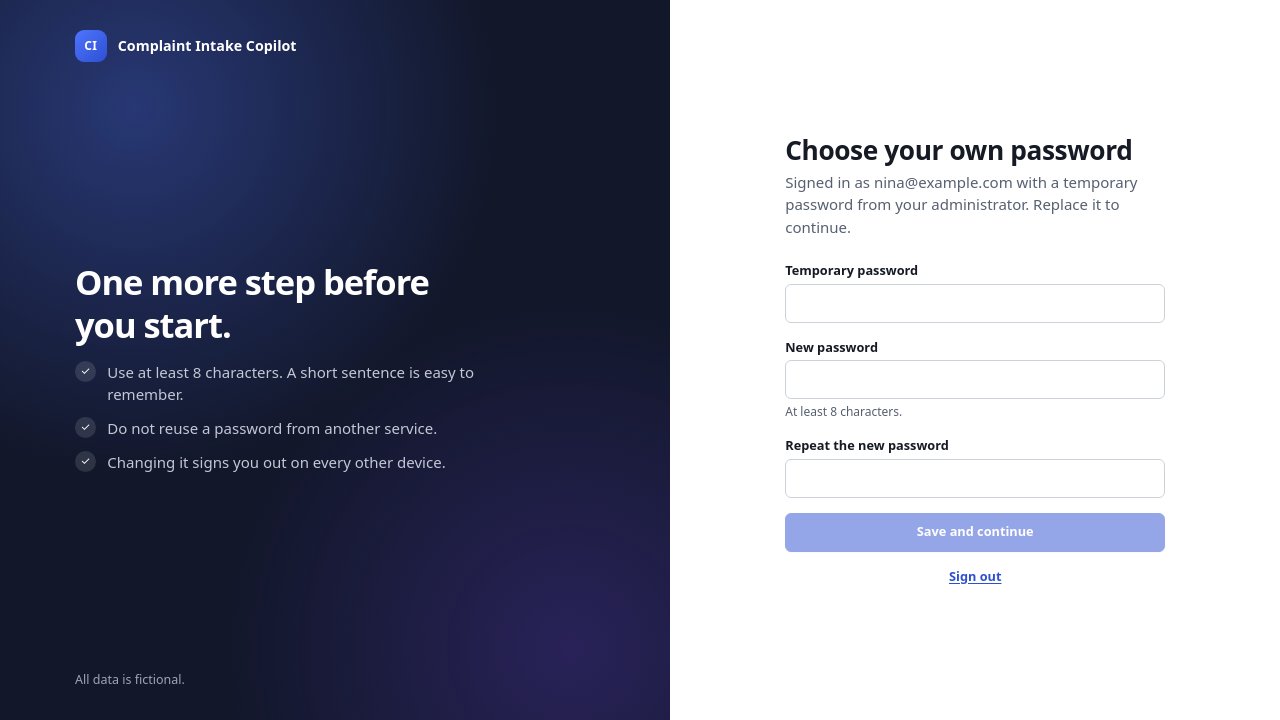
a temporary password › leads straight to choosing a new one, and then to the cases
The width and height of the screenshot is (1280, 720).
Expected: the heading "Choose your own password" is shown, [785,134,1165,167]
In the password field labelled "Temporary password": point(975, 303) [785,284,1165,323], type "temporary password 1"
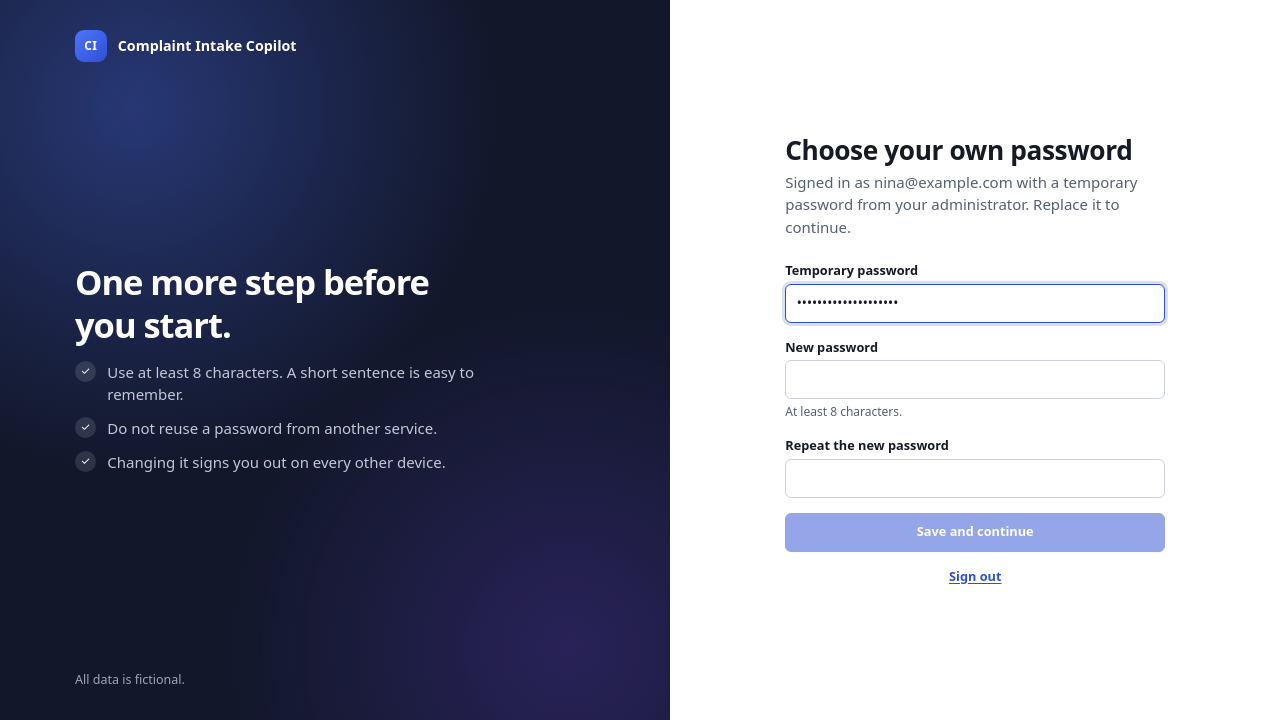
In the password field labelled "New password": point(975, 380) [785,360,1165,399], type "my own password 456"
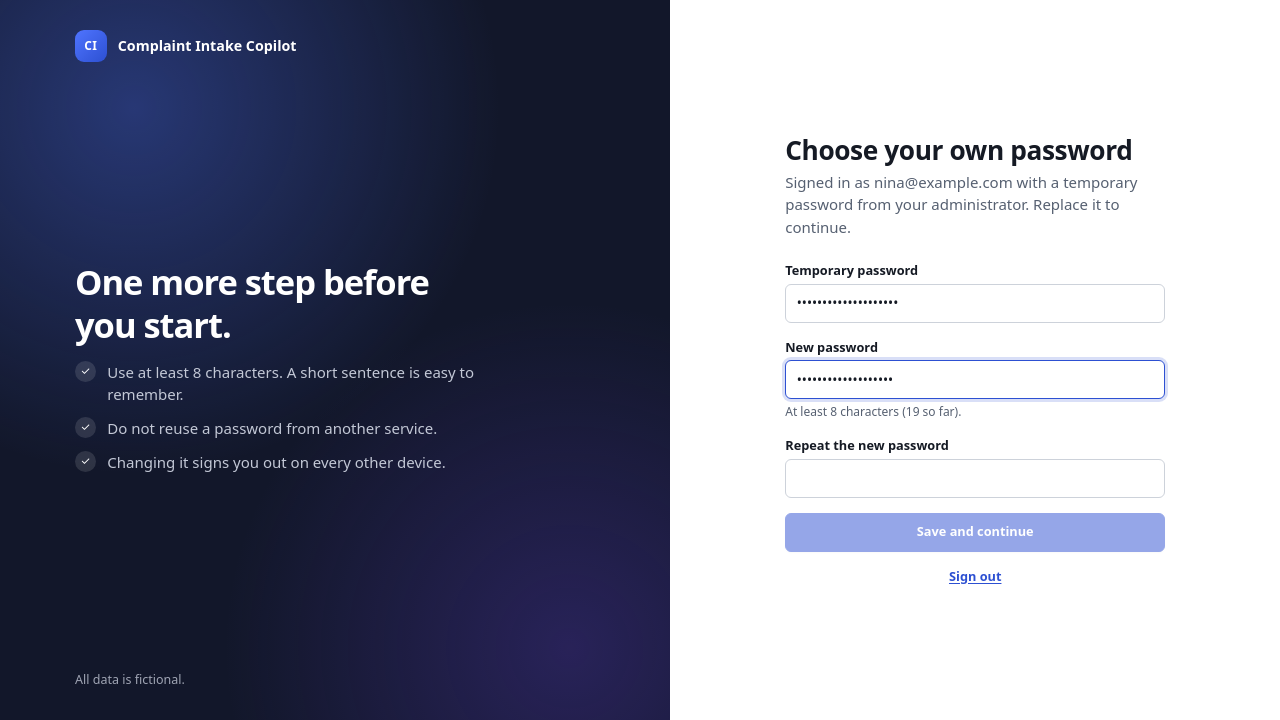
In the password field labelled "Repeat the new password": point(975, 478) [785,459,1165,498], type "my own password 456"
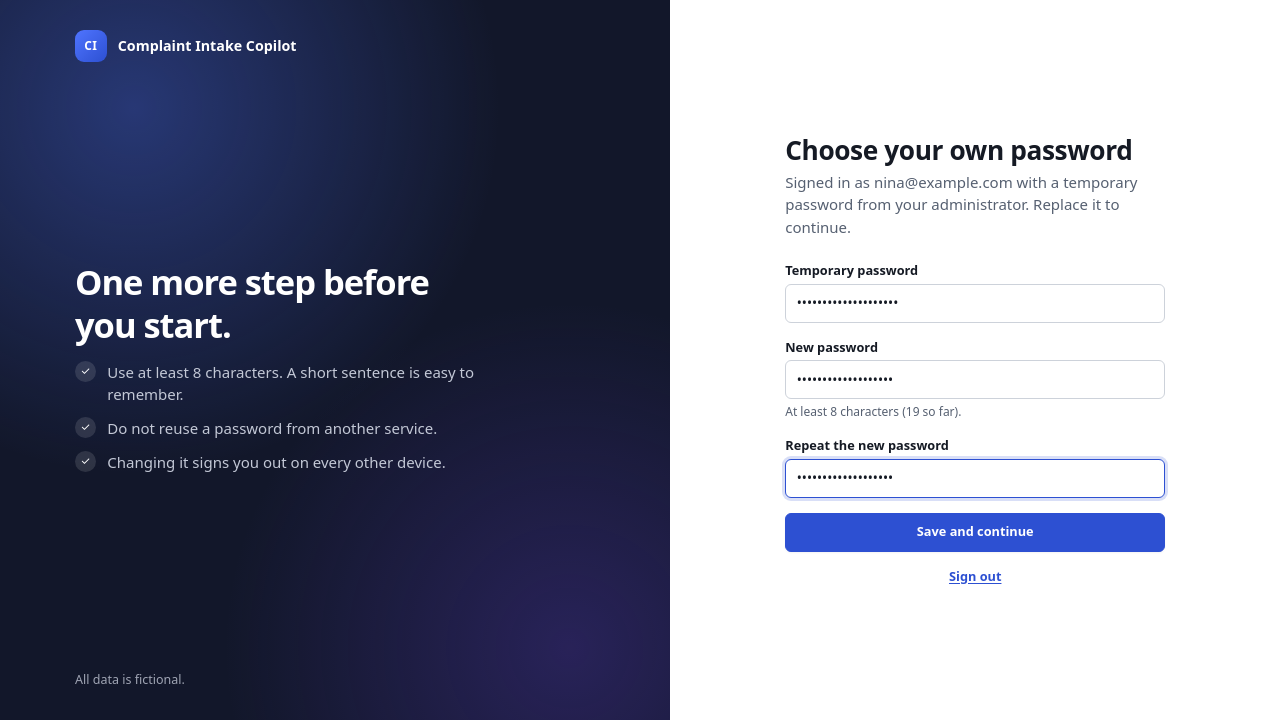
Click the button "Save and continue": point(975, 532) [785,512,1165,552]
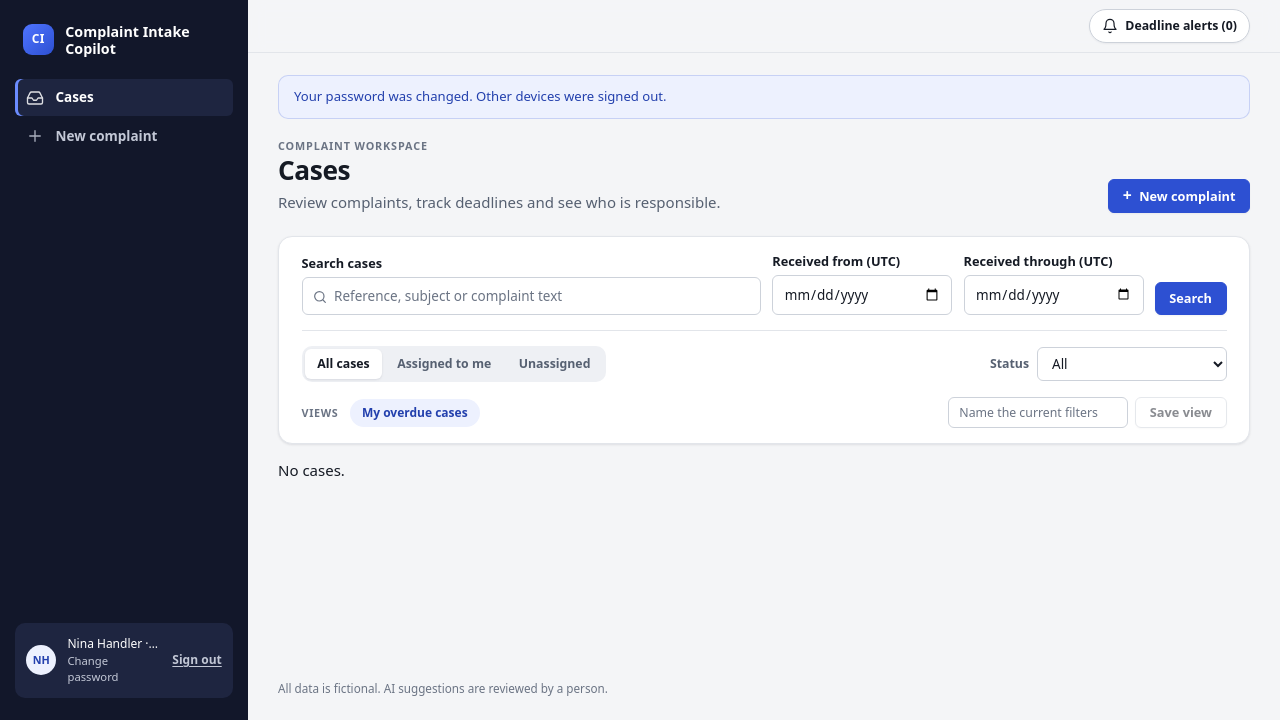
Expected: the heading "Cases" is shown, [278,152,350,188]
Expected: the message shows "Your password was changed", [294,87,667,105]
